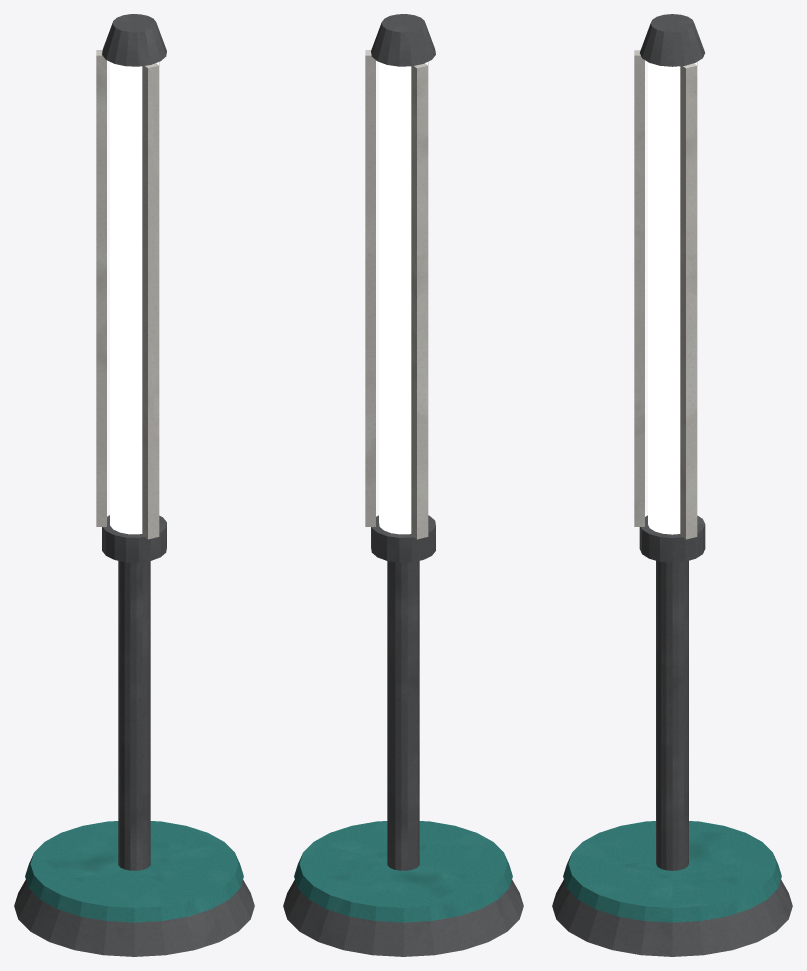
The model's file is lamp.glb.
3 views of the same model, side by side, from view 1: azimuth 30°, elevation 25°; view 2: azimuth 150°, elevation 25°; view 3: azimuth 270°, elevation 25° (orthographic).
Parts seen in each view (by area): view 1: Lamp_gunmetal, Lamp_teal, Lamp_glow, Lamp_white; view 2: Lamp_gunmetal, Lamp_teal, Lamp_glow, Lamp_white; view 3: Lamp_gunmetal, Lamp_teal, Lamp_glow, Lamp_white.
Part boxes in pixels (x1,y1,x2,y2): Lamp_gunmetal: [14, 14, 254, 956]; Lamp_teal: [25, 821, 243, 922]; Lamp_glow: [110, 62, 158, 534]; Lamp_white: [96, 50, 159, 539]; Lamp_gunmetal: [283, 14, 523, 956]; Lamp_teal: [294, 821, 512, 922]; Lamp_glow: [379, 62, 427, 534]; Lamp_white: [365, 50, 428, 539]; Lamp_gunmetal: [552, 14, 792, 956]; Lamp_teal: [563, 821, 781, 922]; Lamp_glow: [648, 62, 696, 534]; Lamp_white: [634, 50, 697, 539].
Size of the model in its own units: 0.44 by 1.78 by 0.44.
Materials: 4 (4 with a texture image).
